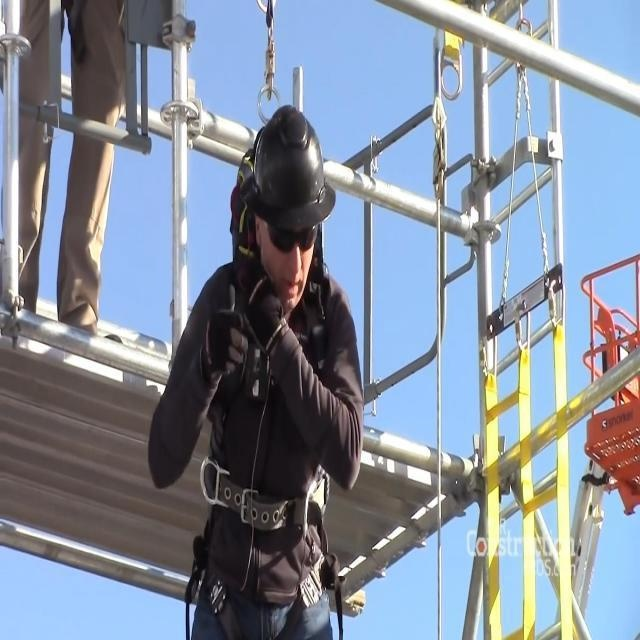Arnes_seguridad: (187, 143, 345, 640)
